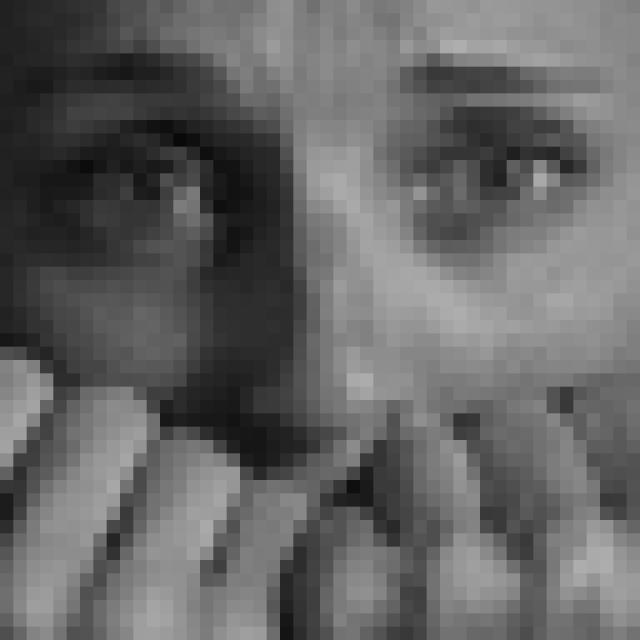fear: (18, 46, 612, 631)
